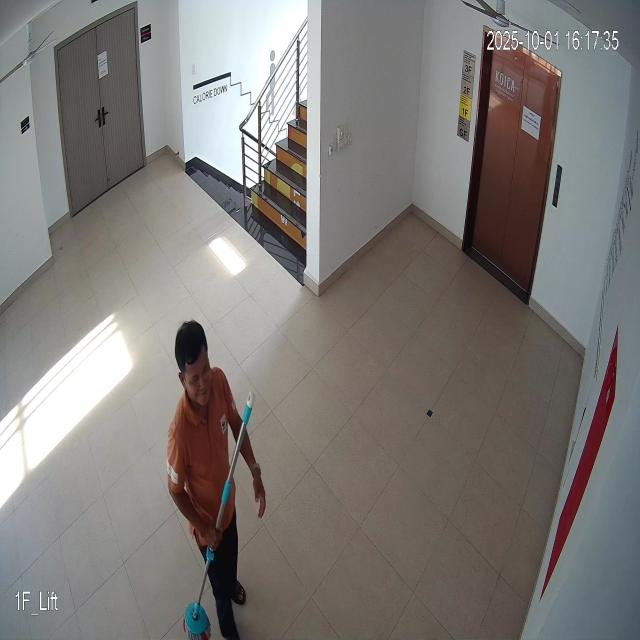face: (170, 310, 220, 408)
